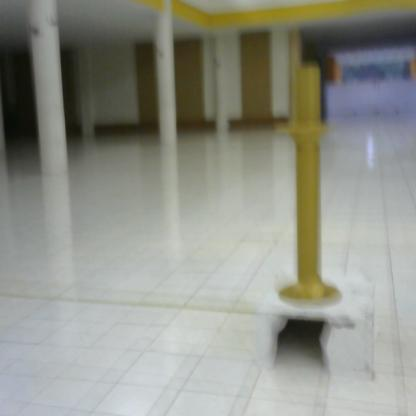pole: (276, 62, 347, 314)
